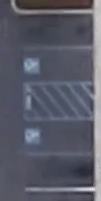Vacant: (21, 119, 93, 154), (21, 154, 93, 189), (22, 12, 93, 47), (22, 48, 93, 82)
